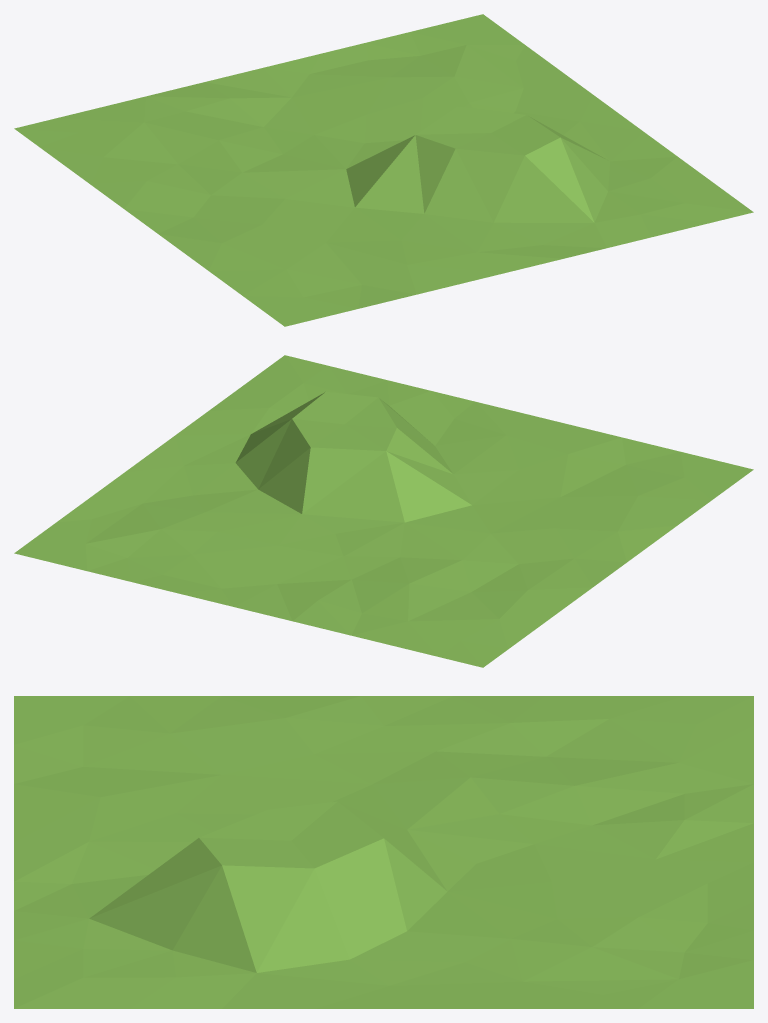
Rendered from MT_Terrain_S_c_03.fbx.
3 views of the same model, one above another, from view 1: azimuth 30°, elevation 25°; view 2: azimuth 150°, elevation 25°; view 3: azimuth 270°, elevation 25° (orthographic). The views are drawn at different scales.
Parts seen in each view (by area): view 1: MT_Terrain_S_c_03; view 2: MT_Terrain_S_c_03; view 3: MT_Terrain_S_c_03.
Boxes of the visible parts, x1,y1,x2,y2 form: MT_Terrain_S_c_03: [14, 14, 753, 326]; MT_Terrain_S_c_03: [14, 355, 753, 667]; MT_Terrain_S_c_03: [14, 696, 753, 1008].
Size of the model in its own units: 2500 by 252 by 2500.
